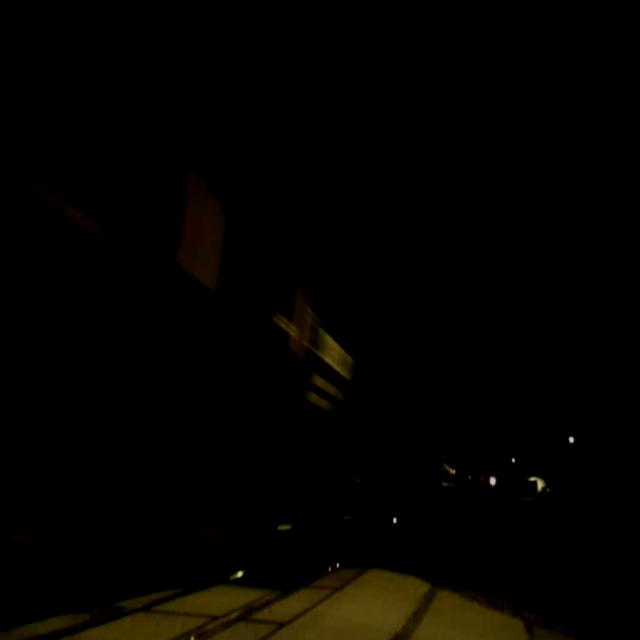tank: (0, 0, 409, 640)
